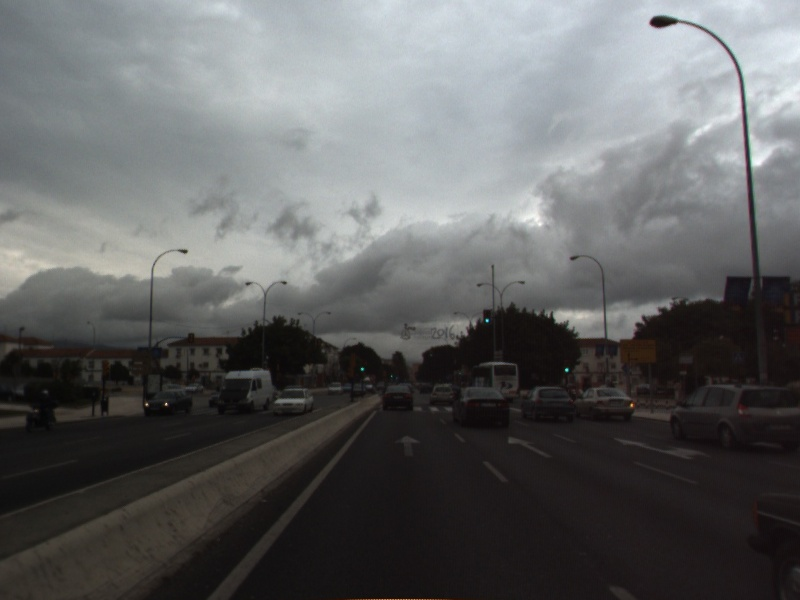STRAIGHT: (506, 433, 556, 460), (392, 433, 424, 459)
STRAIGHT_RIGHT: (611, 436, 714, 463)
